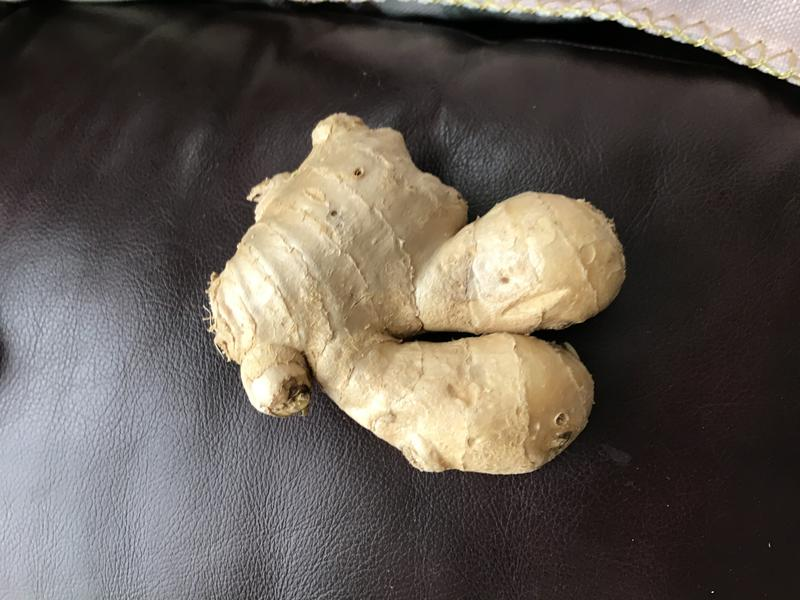ginger: (198, 82, 632, 507)
